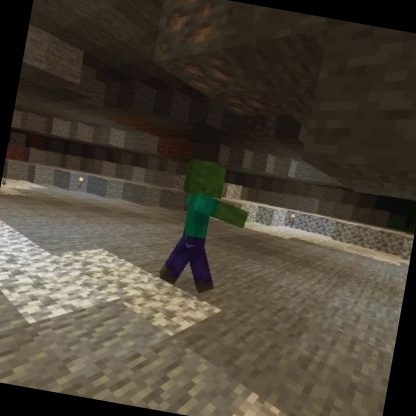zombie: (153, 152, 260, 303)
